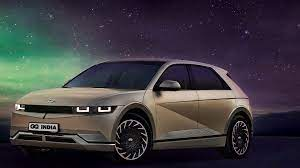Honda Ioniq: (7, 44, 269, 168)
